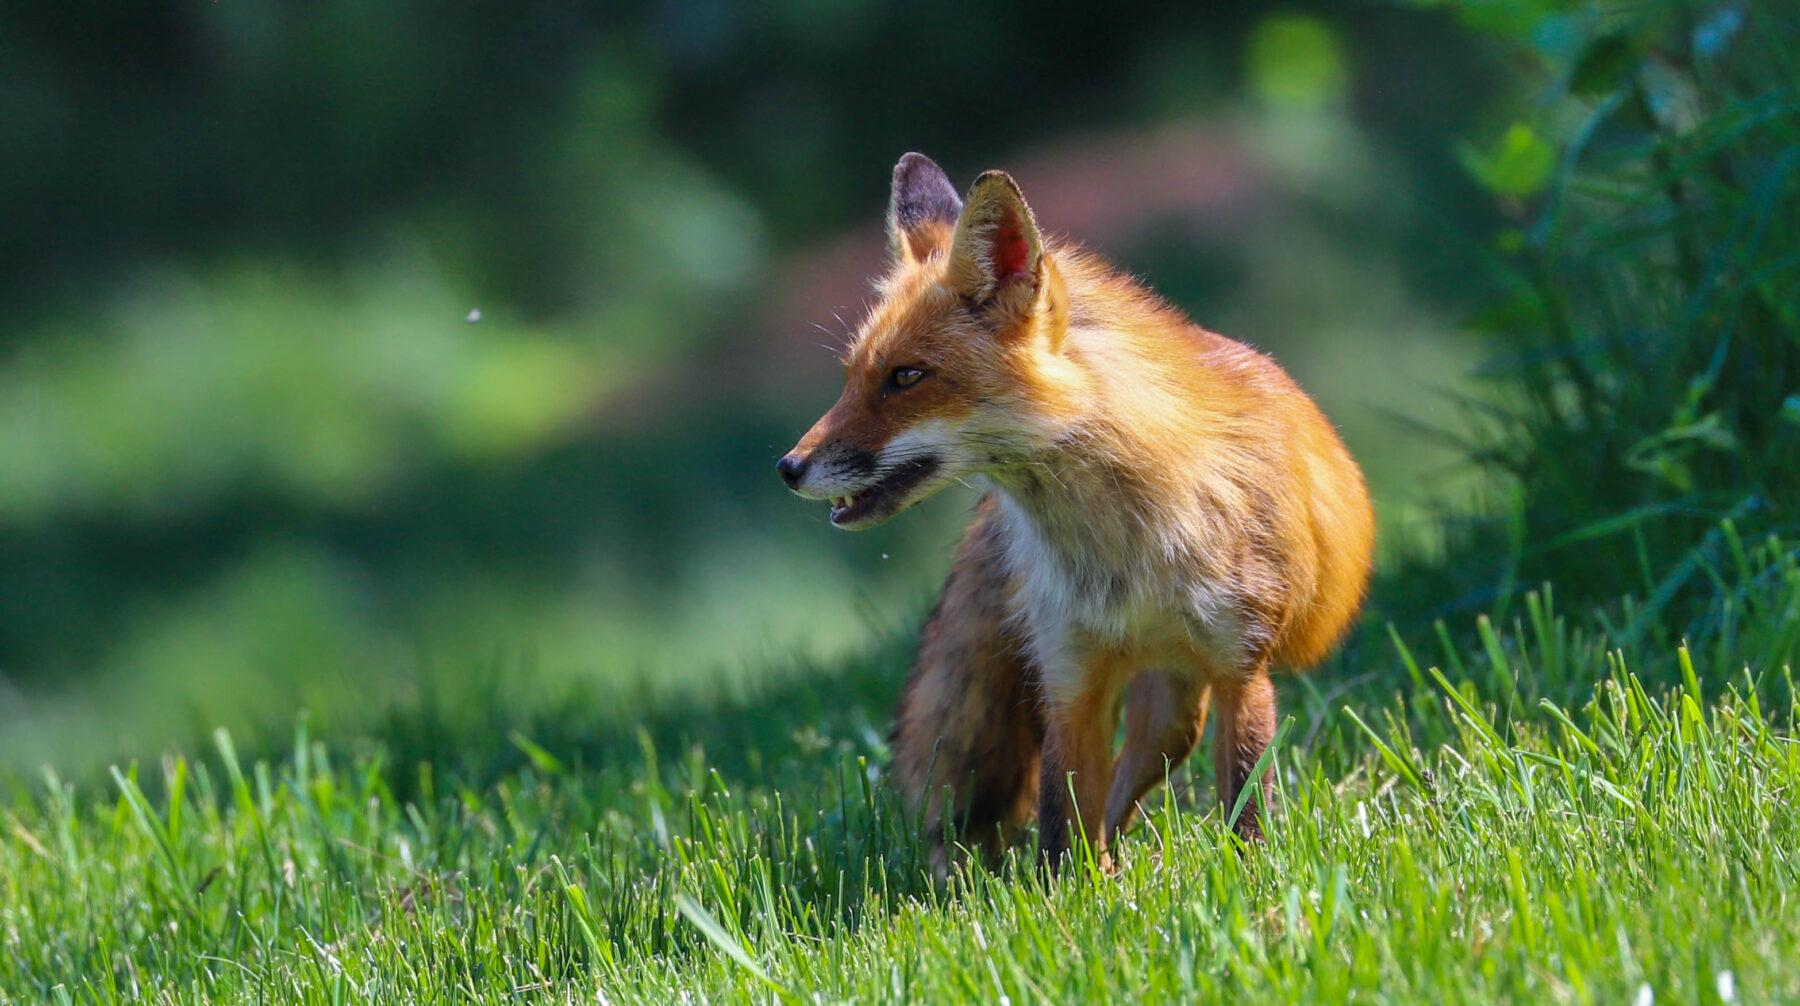fox: (632, 99, 1491, 907)
